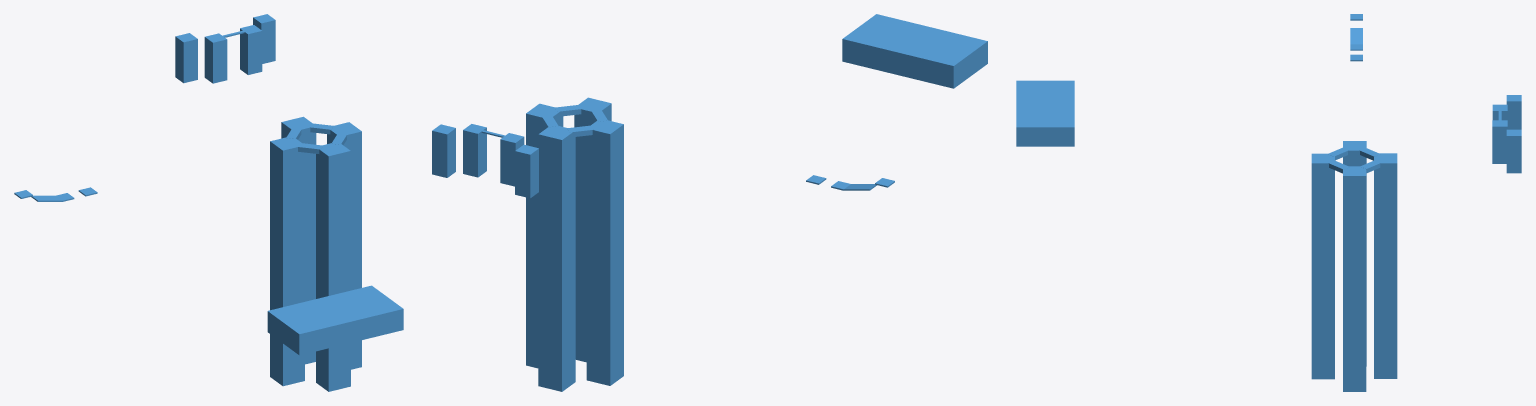
Rendered from wip_dungeon1_blockout_icy.glb.
3 views of the same model, side by side, from view 1: azimuth 30°, elevation 25°; view 2: azimuth 150°, elevation 25°; view 3: azimuth 270°, elevation 25° (orthographic). The views are drawn at different scales.
Visible parts, largest first — view 1: Cube.010; view 2: Cube.010; view 3: Cube.010.
Part boxes in pixels (<box>): Cube.010: <box>14,14,403,391</box>; Cube.010: <box>432,14,987,391</box>; Cube.010: <box>1016,14,1521,391</box>.
Size of the model in its own units: 47.67 by 37.67 by 67.1.
